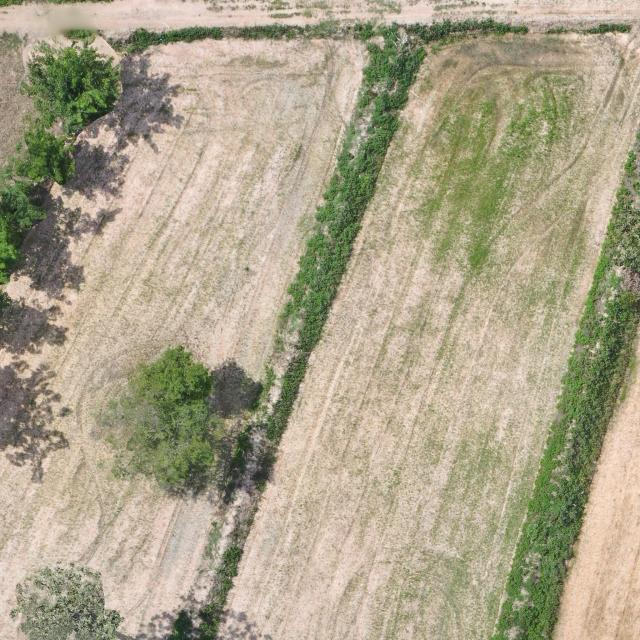Tree: (88, 345, 231, 497), (22, 39, 122, 138), (9, 558, 127, 640), (11, 122, 86, 187), (0, 174, 49, 238), (0, 214, 27, 286)
